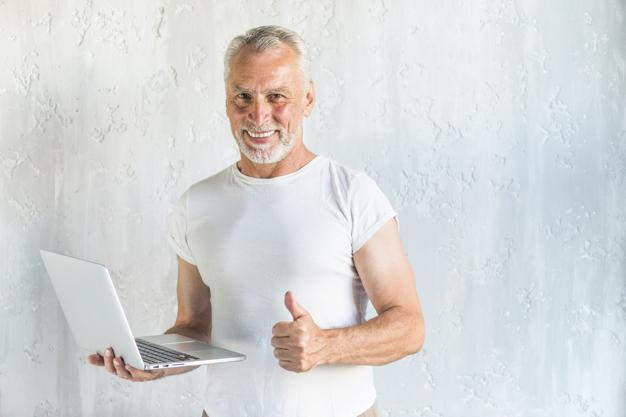thumbsup: (270, 290, 312, 373)
